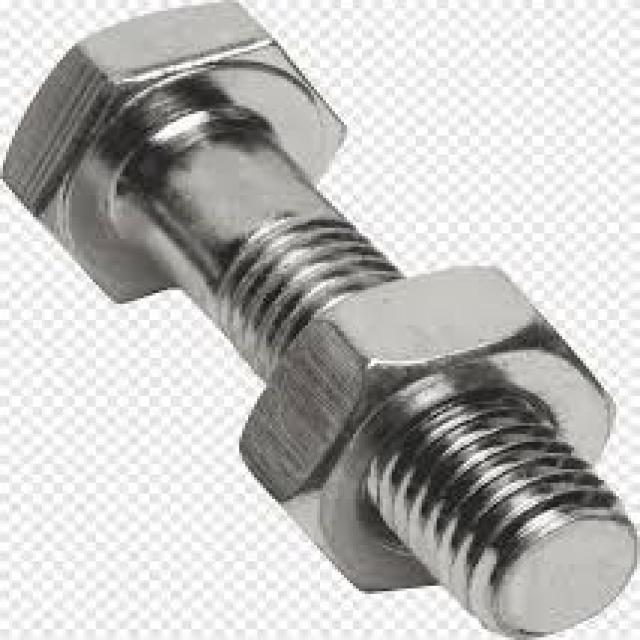metal: (0, 0, 637, 635), (236, 263, 616, 591)
